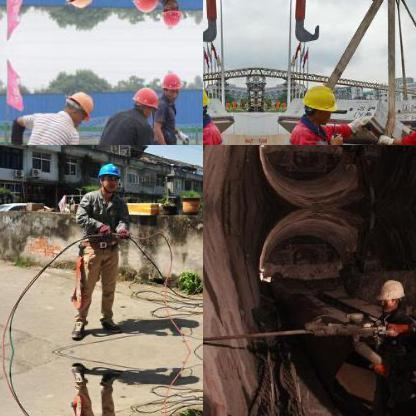Helmet: (296, 82, 338, 124), (60, 87, 96, 123), (376, 276, 406, 310), (94, 158, 122, 192), (130, 82, 158, 115), (158, 68, 182, 100), (158, 0, 183, 28), (203, 82, 214, 125), (59, 0, 97, 11), (130, 0, 159, 14)
